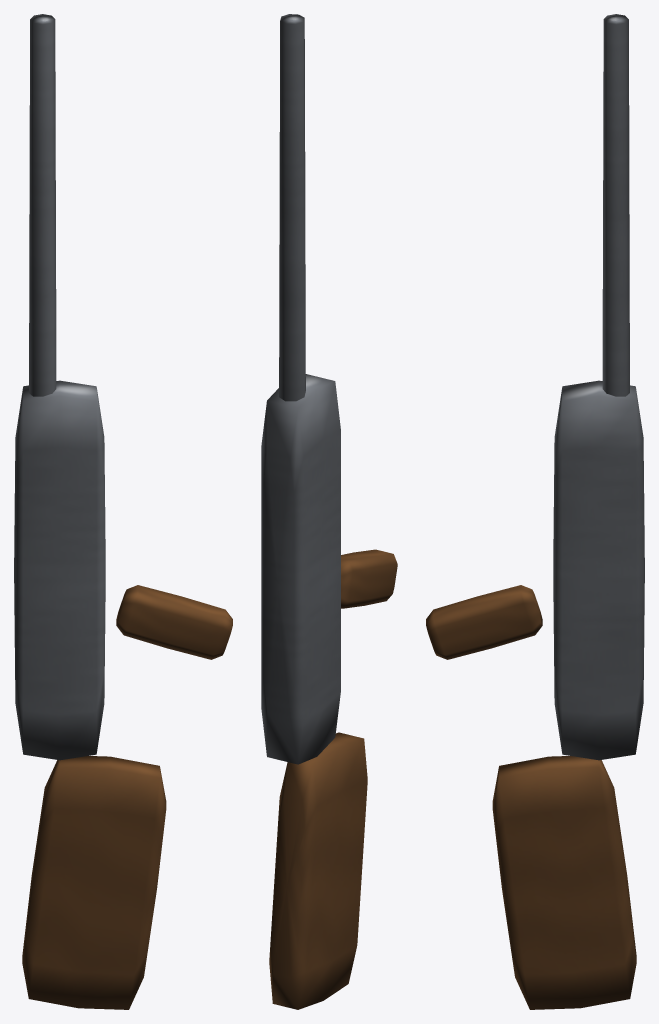
Rendered from carabine.glb.
3 renders of one model, left to right at view 1: azimuth 90°, elevation 25°; view 2: azimuth 150°, elevation 25°; view 3: azimuth 270°, elevation 25°, orthographic.
Parts seen in each view (by area): view 1: carabine; view 2: carabine; view 3: carabine.
Part boxes in pixels (x1=…): carabine: x1=14, y1=14, x2=232, y2=1009; carabine: x1=261, y1=14, x2=397, y2=1009; carabine: x1=426, y1=14, x2=644, y2=1009.
Size of the model in its own units: 0.0438 by 0.9468 by 0.1908.
1 material, 1 textured.
